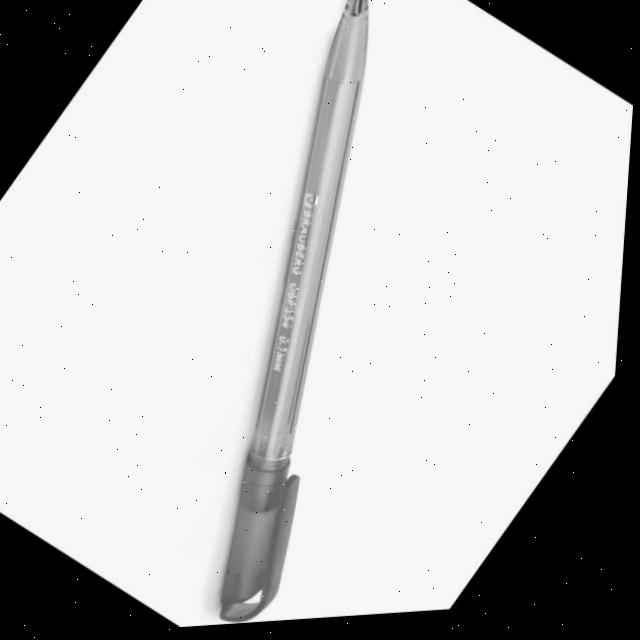pencil: (210, 0, 393, 634)
